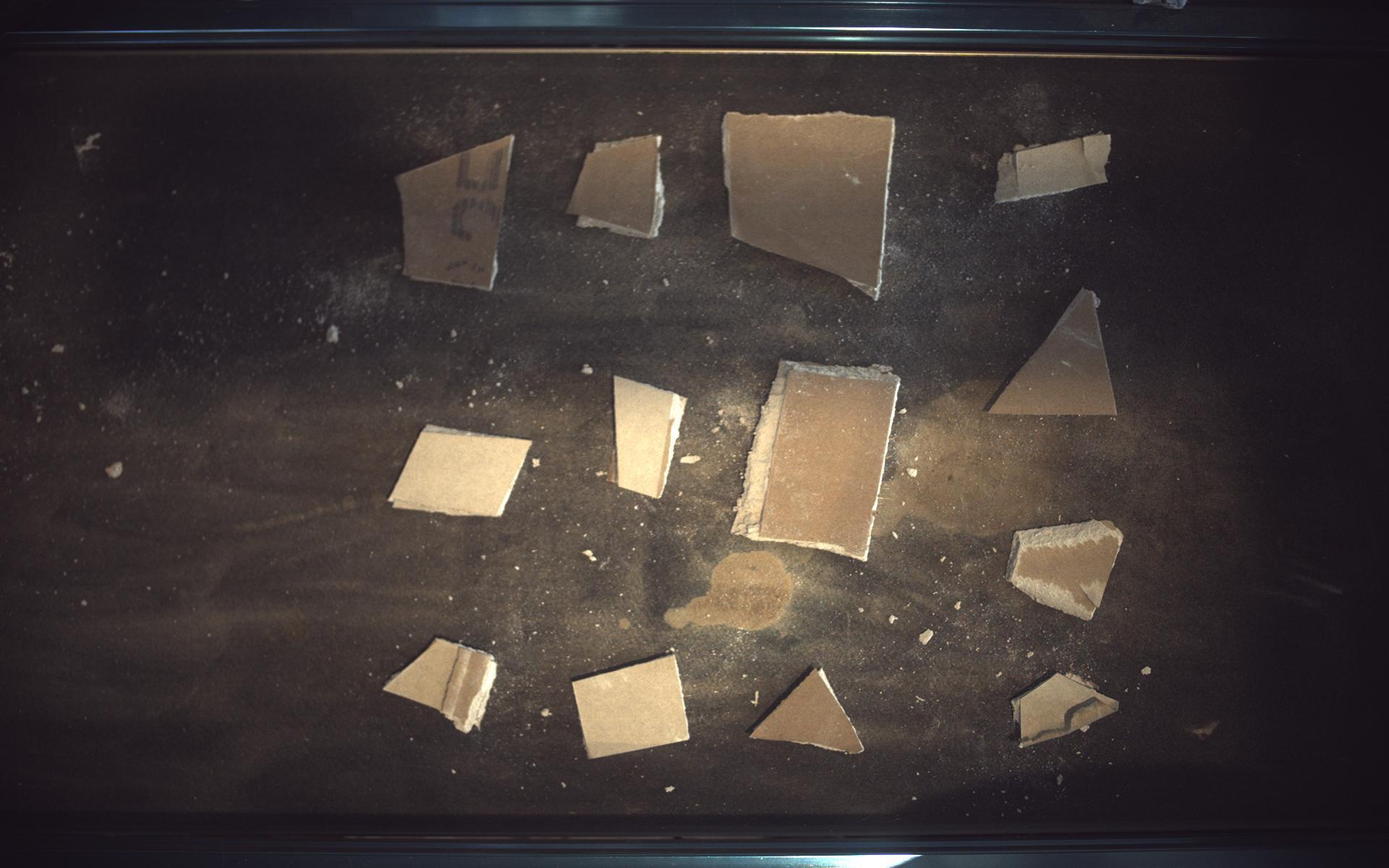gypsum_board: (733, 360, 901, 561), (723, 111, 896, 299), (396, 134, 515, 290), (992, 287, 1118, 415), (388, 425, 532, 517), (574, 655, 689, 760), (1008, 520, 1126, 621), (383, 639, 497, 734), (568, 134, 666, 238), (752, 668, 865, 755), (611, 376, 688, 498), (997, 132, 1113, 202), (1014, 675, 1121, 749)
